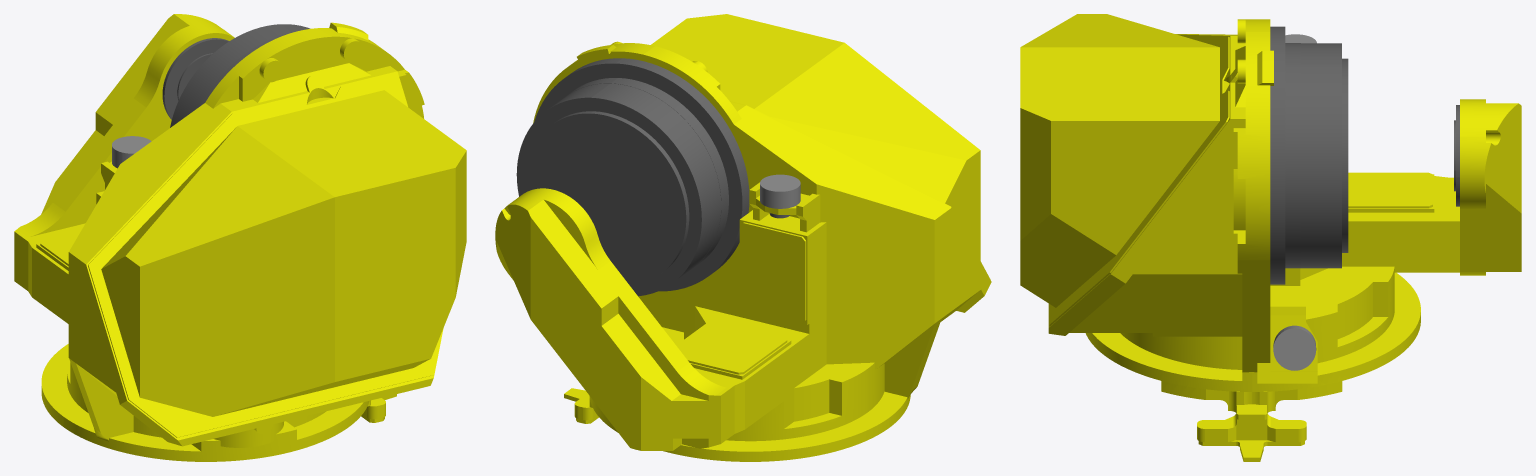
The picture shows the model from 3 angles, left to right: view 1: azimuth 30°, elevation 25°; view 2: azimuth 150°, elevation 25°; view 3: azimuth 270°, elevation 25°; orthographic projection. The views are drawn at different scales.
Parts seen in each view (by area): view 1: Mesh_0; view 2: Mesh_0; view 3: Mesh_0.
Part boxes in pixels (box(x1,y1,x2,y2)): Mesh_0: box(14, 14, 466, 461); Mesh_0: box(495, 14, 991, 461); Mesh_0: box(1020, 14, 1521, 461).
Bounding box in the file's own units: 0.566 × 0.6319 × 0.5375.
